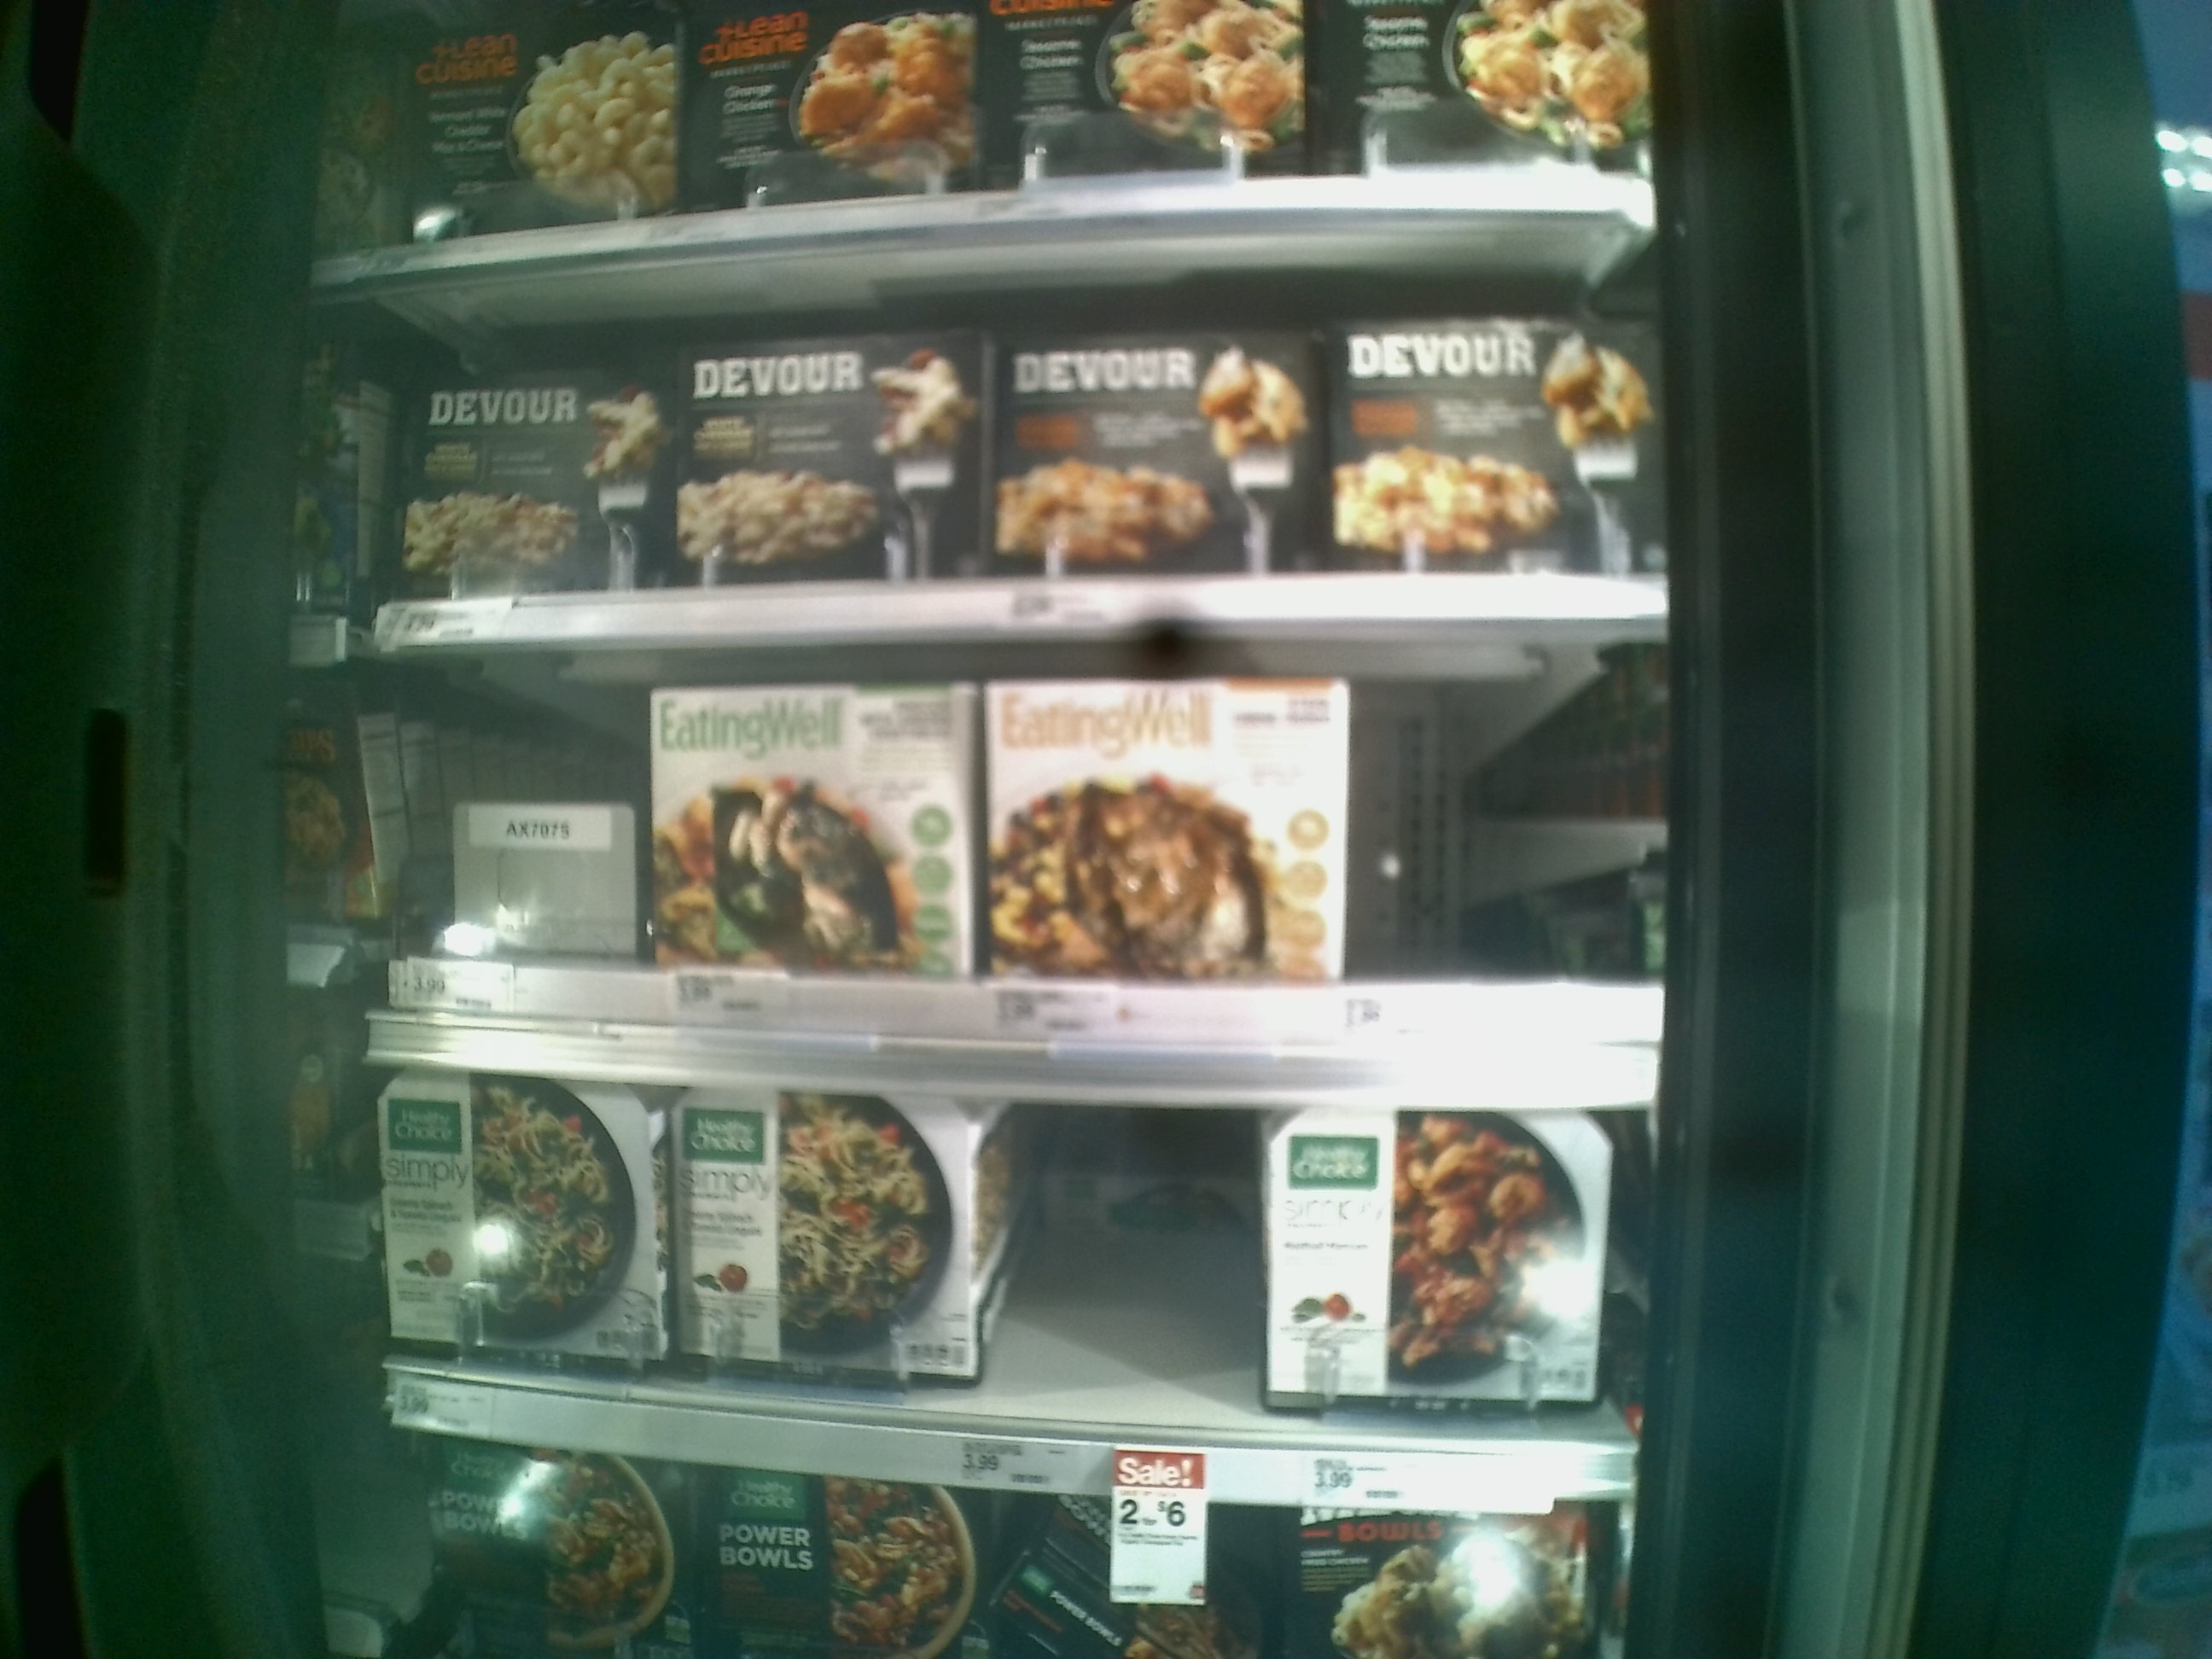shelf: (381, 1058, 1648, 1521), (362, 202, 1655, 640), (378, 638, 1648, 1040)
